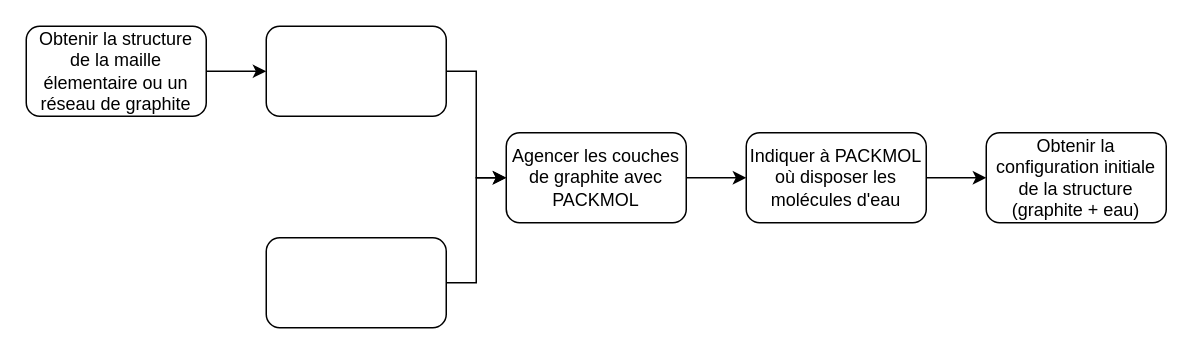
The diagram is 1193 pixels wide and 354 high, and some of its shapes have lost their labels. The centre of each missing label's shape, as x and y in pixels:
Dupliquer la maille pour obtenir une super-cellule avec VESTA: point (355, 70)
Obtenir la structure de la molécule d'eau: point (355, 282)
